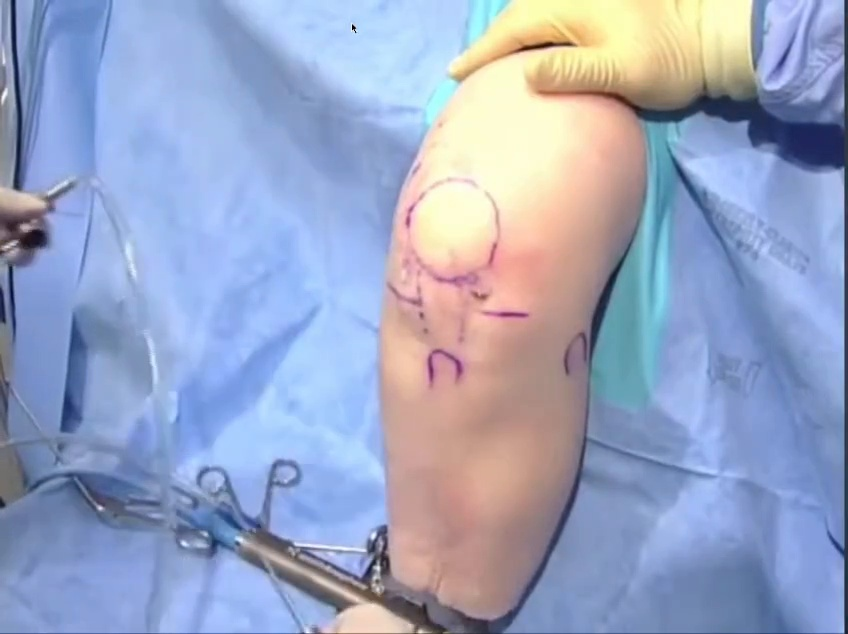arthroscope: (650, 0, 848, 145), (67, 161, 167, 315)
probe: (653, 113, 809, 311), (779, 154, 848, 564), (88, 284, 192, 441), (344, 259, 402, 403)
